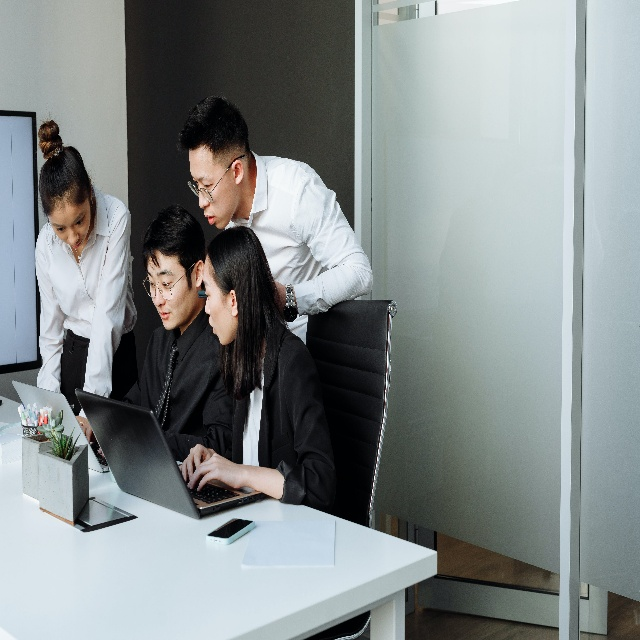Gafas: (187, 153, 246, 202), (142, 261, 196, 301)
Sin_guantes: (187, 451, 243, 494), (177, 445, 215, 483), (80, 420, 92, 445), (74, 412, 88, 427)
